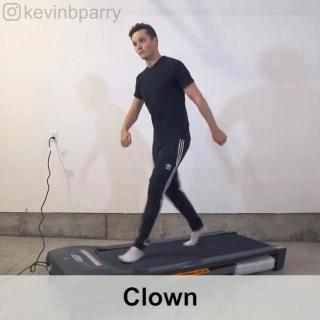person - v3 P: (116, 26, 207, 255)
